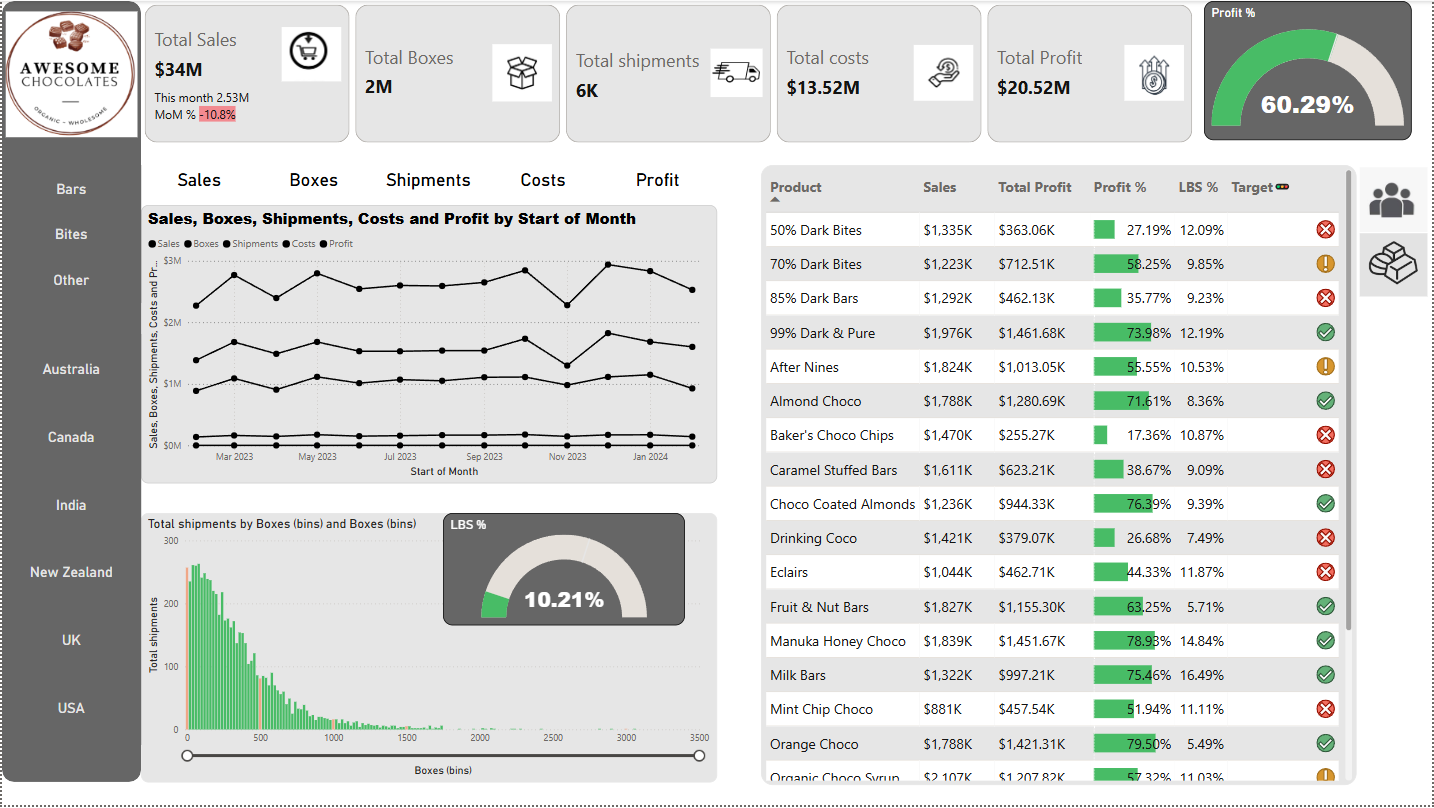

Layout of this report page (visuals, bound fields, positions):
{"tool":"powerbi","page":{"name":"Sales Report","canvas":[1920,1080],"ordinal":2},"visuals":[{"type":"shape","box":[0,0,186.8,1049],"z":0},{"type":"cardVisual","fields":{"Data":["_Measures.Total Sales","_Measures.Total Boxes","_Measures.Total shipments","_Measures.Total costs","_Measures.Total Profit"]},"box":[187.1,0,1417.3,195.6],"z":1000},{"type":"gauge","fields":{"Y":["_Measures.Profit %"]},"box":[1615.1,0,278.7,186.7],"z":2000},{"type":"advancedSlicerVisual","fields":{"Values":["Parameter.Parameter"]},"box":[186.5,197.2,773.5,84.8],"z":3000},{"type":"lineChart","fields":{"Y":["_Measures.Total Sales","_Measures.Total Boxes","_Measures.Total shipments","_Measures.Total costs","_Measures.Total Profit"],"Category":["calendar.Start of Month"]},"box":[186.5,274.3,773.5,374.4],"z":4000},{"type":"columnChart","fields":{"Series":["shipments.Boxes (bins)"],"Y":["_Measures.Total shipments"],"Category":["shipments.Boxes (bins)"]},"box":[186.5,687.3,773.5,362.1],"z":5000},{"type":"gauge","fields":{"Y":["_Measures.LBS %"]},"box":[592.6,687.4,325.5,150.6],"z":6000},{"type":"tableEx","title":"Product Table","fields":{"Values":["products.Product","_Measures.Total Sales","_Measures.Total Profit","_Measures.Profit %","_Measures.LBS %","_Measures.Target Met"]},"box":[1019.8,220.3,799.5,833.1],"z":7000},{"type":"image","box":[0,0,186.7,196.1],"z":8000},{"type":"image","title":"People Icon","box":[1819.3,215.9,100.7,100.7],"z":10000},{"type":"image","title":"Product icon","box":[1819.3,304.9,100.7,99.2],"z":11000},{"type":"advancedSlicerVisual","fields":{"Values":["products.Category"]},"box":[0,219.9,186.8,185],"z":12000},{"type":"advancedSlicerVisual","fields":{"Values":["locations.Geo"]},"box":[0,446.8,186.8,551.6],"z":13000}]}

Visuals, with their boxes in screenshot pixels (x1, y1, x2, y2), scaled from the page's 1920x1080 canvas onto the 1434x808 screenshot:
shape: region(0, 0, 140, 785)
cardVisual - _Measures.Total Sales x _Measures.Total Boxes: region(140, 0, 1198, 146)
gauge - _Measures.Profit %: region(1206, 0, 1414, 140)
advancedSlicerVisual - Parameter.Parameter: region(139, 148, 717, 211)
lineChart - _Measures.Total Sales x _Measures.Total Boxes: region(139, 205, 717, 485)
columnChart - shipments.Boxes (bins) x _Measures.Total shipments: region(139, 514, 717, 785)
gauge - _Measures.LBS %: region(443, 514, 686, 627)
"Product Table" tableEx: region(762, 165, 1359, 788)
image: region(0, 0, 139, 147)
"People Icon" image: region(1359, 162, 1433, 237)
"Product icon" image: region(1359, 228, 1433, 302)
advancedSlicerVisual - products.Category: region(0, 165, 140, 303)
advancedSlicerVisual - locations.Geo: region(0, 334, 140, 747)
